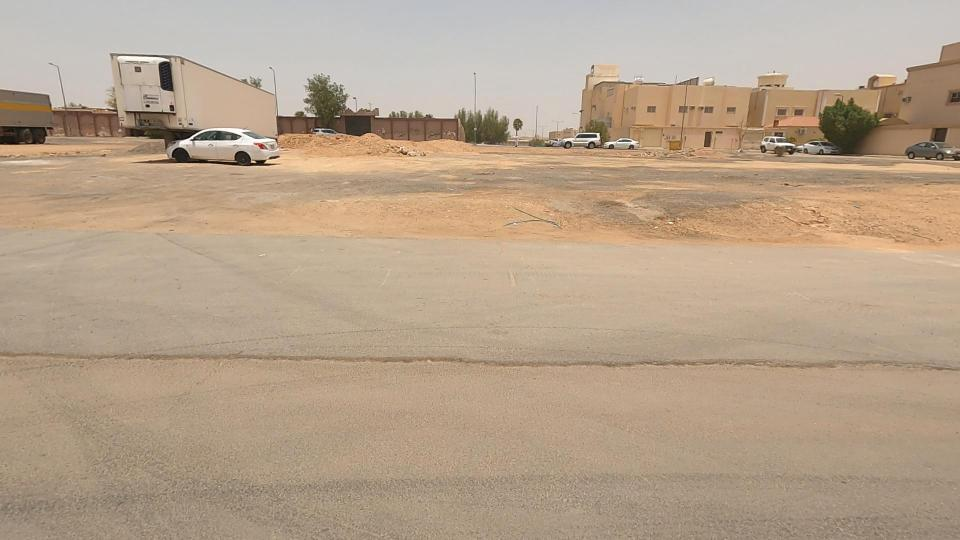POTHOLES: (0, 275, 395, 448), (241, 296, 590, 434), (484, 307, 783, 416)
